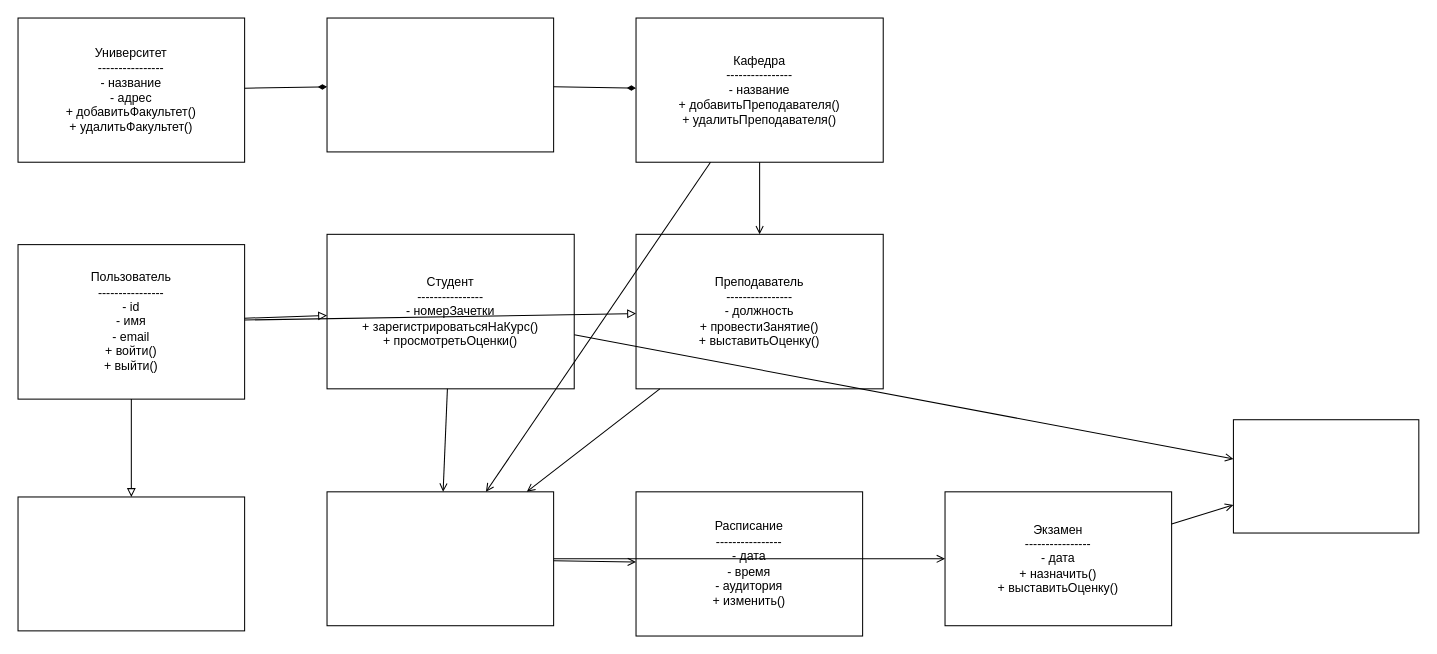
This 1437x654 diagram has some shape labels left out. The shapes that lost their labels are listed below. From the top down, each one's centre as x and y in pixels, then its label:
At (440,84): "Факультет ---------------- - название + добавитьКафедру() + удалитьКафедру()".
At (1325,476): "Оценка ---------------- - балл - комментарий".
At (131,563): "Администратор ---------------- + добавитьПользователя() + удалитьПользователя()".
At (440,558): "Курс ---------------- - название + добавитьСтудента() + удалитьСтудента()".
